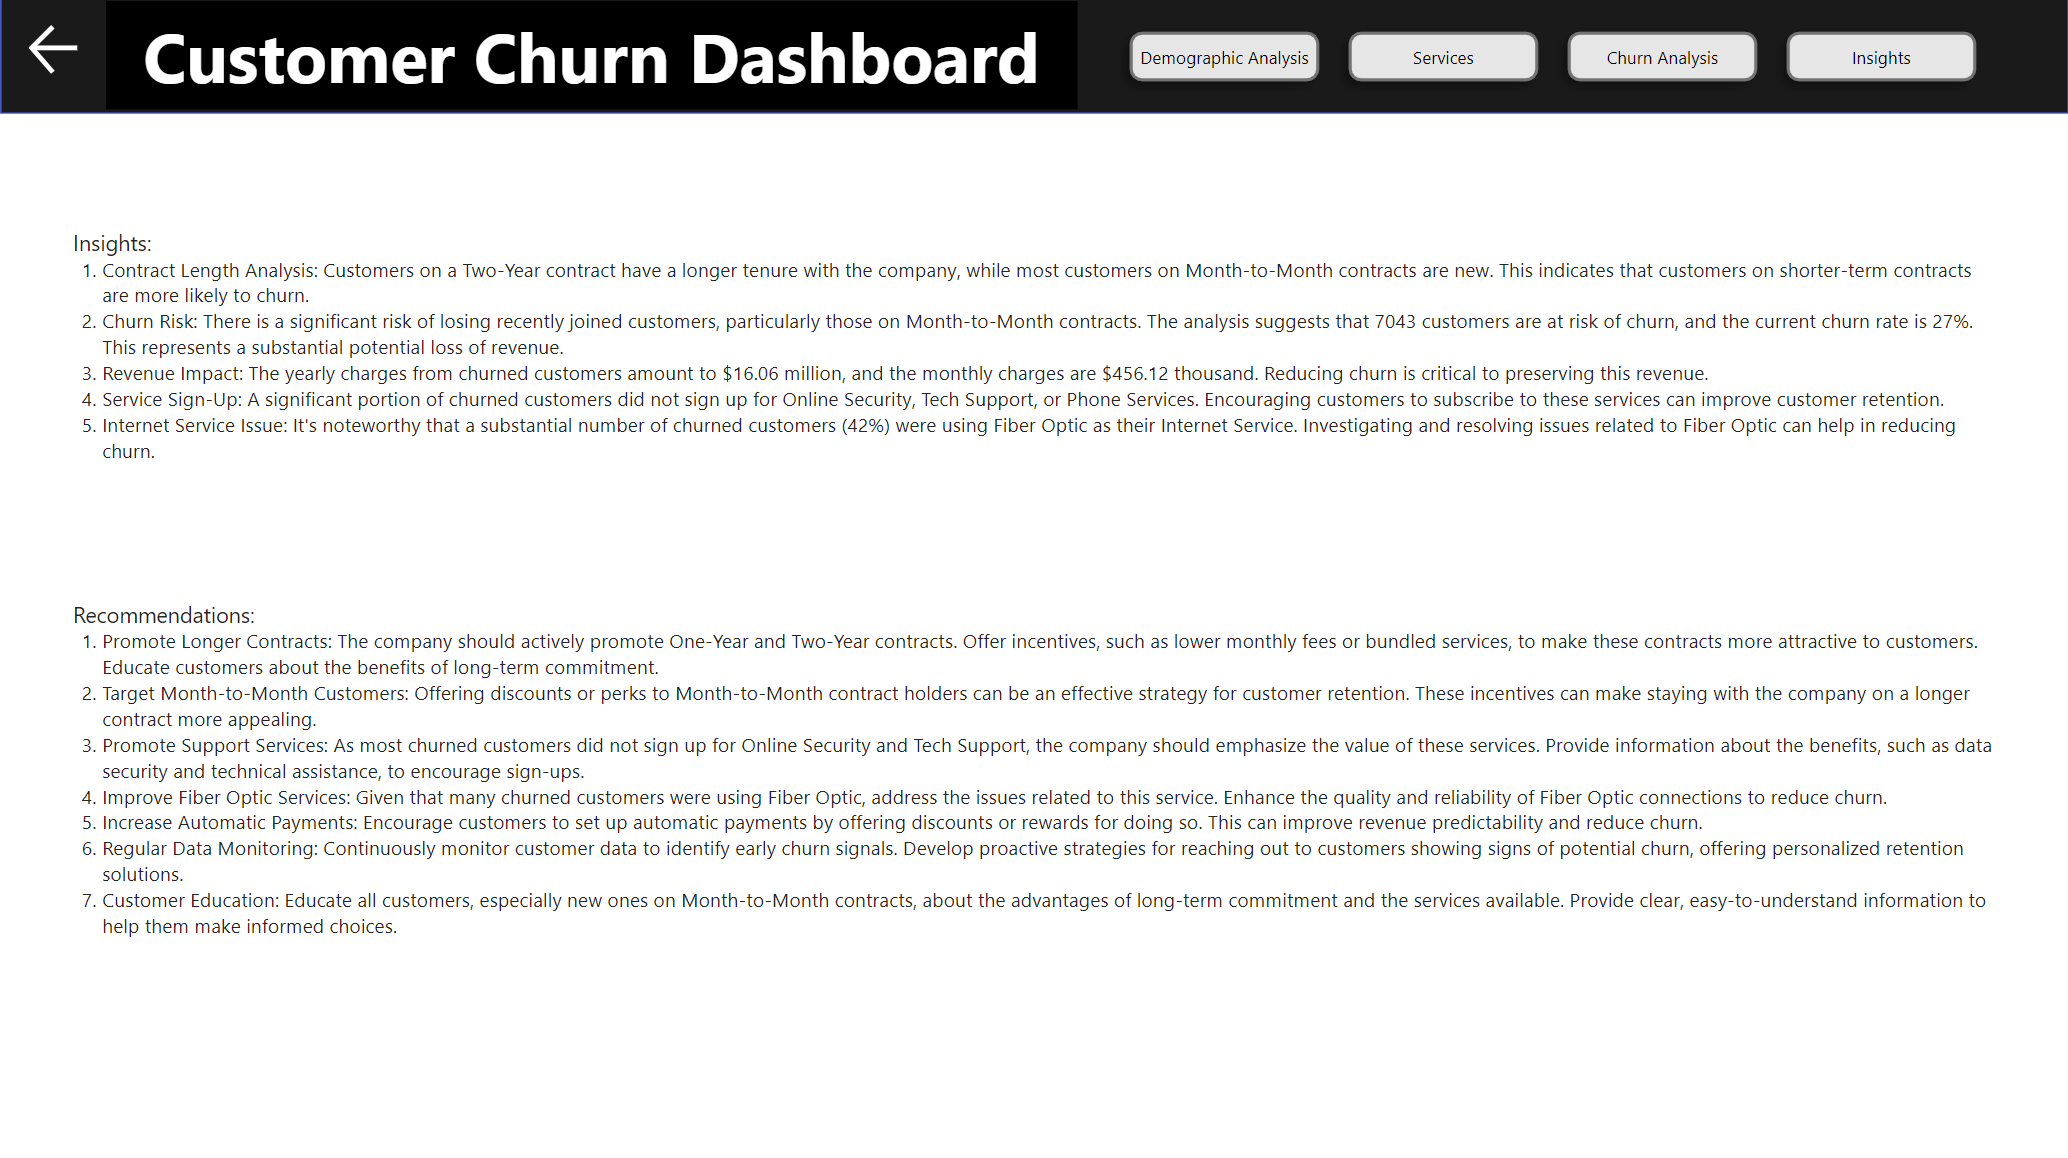

This screenshot's page, from the dashboard's own definition file:
{"tool":"powerbi","page":{"name":"Insights","canvas":[1280,720],"ordinal":4},"visuals":[{"type":"group","id":"g1","title":"Group 4","box":[0,0,1279.8,72.4],"z":0},{"type":"shape","box":[0,0,1279.8,72.4],"z":0,"group":"g1"},{"type":"shape","box":[689.7,12.4,135.5,48.9],"z":0,"group":"g2"},{"type":"actionButton","box":[13.6,12.4,52,40.2],"z":1000,"group":"g1"},{"type":"shape","box":[960.6,12.4,135.5,48.9],"z":1000,"group":"g2"},{"type":"textbox","box":[40.2,137.9,1200,506],"z":1000},{"type":"textbox","box":[65.6,2.5,600.6,67.4],"z":2000,"group":"g1"},{"type":"shape","box":[825.2,12.4,135.5,48.9],"z":2000,"group":"g2"},{"type":"group","id":"g2","title":"Group 3","box":[689.7,12.4,541.9,48.9],"z":3000,"group":"g1"},{"type":"shape","box":[1096.1,12.4,135.5,48.9],"z":3000,"group":"g2"}]}

Visuals, with their boxes on the page's 1280x720 design canvas (x1, y1, x2, y2). These are canvas units, not pixel positions in the 2068x1158 screenshot, which may show the page scaled, cropped or inside an application window:
"Group 4" group: <box>0,0,1280,72</box>
shape: <box>0,0,1280,72</box>
shape: <box>690,12,825,61</box>
actionButton: <box>14,12,66,53</box>
shape: <box>961,12,1096,61</box>
textbox: <box>40,138,1240,644</box>
textbox: <box>66,2,666,70</box>
shape: <box>825,12,961,61</box>
"Group 3" group: <box>690,12,1232,61</box>
shape: <box>1096,12,1232,61</box>
